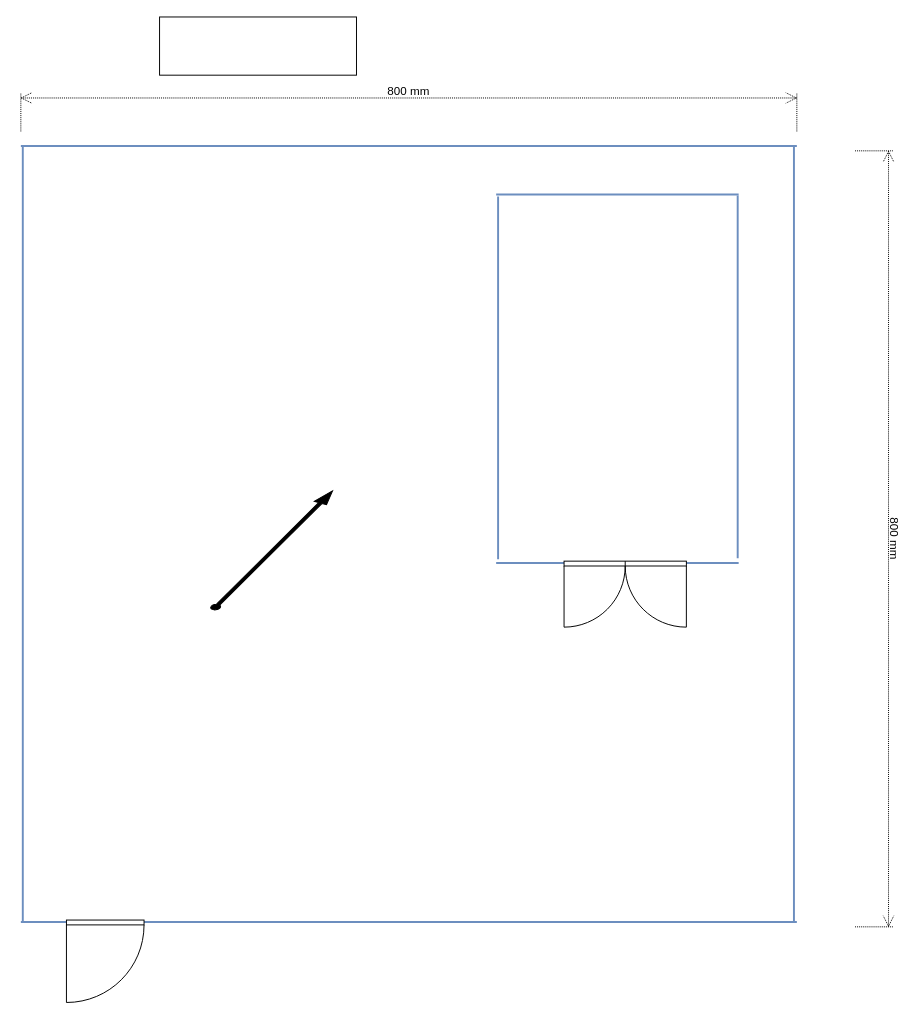
This 918x1019 diagram has some shape labels left out. Each missing label, with the centre of its shape:
"Kompostownik" belongs at [257,45].
"North" belongs at [272,550].
